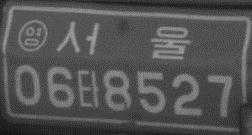0: (13, 62, 40, 107)
2: (171, 72, 202, 116)
5: (136, 70, 166, 114)
6: (46, 65, 75, 109)
7: (206, 74, 233, 118)
8: (102, 68, 132, 112)
서울_D: (54, 21, 191, 60)
영: (16, 19, 48, 51)
타: (76, 69, 100, 108)
